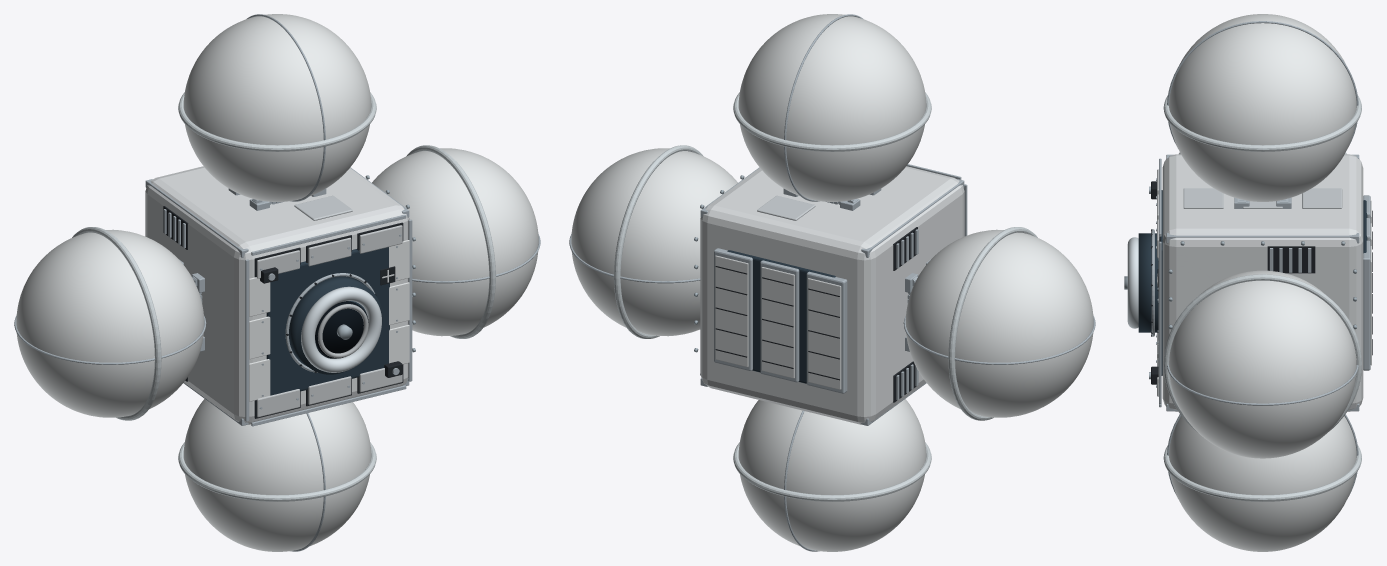
File: preview_depot.glb
3 views of the same model, side by side, from view 1: azimuth 30°, elevation 25°; view 2: azimuth 150°, elevation 25°; view 3: azimuth 270°, elevation 25° (orthographic).
Visible parts, largest first — view 1: external_propellant_tank_01, central_square_white_bus, aft_service_panel, Tank meridional restraint, tank_restraint_band_01, Insulation blanket cassette, depot_soft_capture_ring, Mount captive bolt, depot_docking_recess, top_thermal_tile, depot_transfer_seal; view 2: external_propellant_tank_01, central_square_white_bus, Tank meridional restraint, tank_restraint_band_01, aft_service_panel, Mount captive bolt, top_thermal_tile; view 3: external_propellant_tank_01, central_square_white_bus, Tank meridional restraint, tank_restraint_band_01, aft_service_panel, top_thermal_tile, Mount captive bolt, depot_soft_capture_ring.
Part boxes in pixels (x1,y1,x2,y2): external_propellant_tank_01: (16,14,538,551); central_square_white_bus: (145,166,409,424); aft_service_panel: (266,247,389,395); Tank meridional restraint: (14,14,540,551); tank_restraint_band_01: (72,92,495,501); Insulation blanket cassette: (257,225,402,417); depot_soft_capture_ring: (301,286,381,372); Mount captive bolt: (163,206,403,418); depot_docking_recess: (315,301,368,358); top_thermal_tile: (294,195,352,220); depot_transfer_seal: (318,304,368,358); external_propellant_tank_01: (571,14,1093,551); central_square_white_bus: (700,166,964,424); Tank meridional restraint: (569,14,1095,551); tank_restraint_band_01: (614,92,1037,501); aft_service_panel: (727,250,835,383); Mount captive bolt: (715,227,917,402); top_thermal_tile: (757,195,815,220); external_propellant_tank_01: (1157,14,1371,551); central_square_white_bus: (1162,154,1363,411); Tank meridional restraint: (1149,21,1370,496); tank_restraint_band_01: (1163,95,1361,501); aft_service_panel: (1138,190,1367,375); top_thermal_tile: (1183,188,1342,208); Mount captive bolt: (1151,181,1372,384); depot_soft_capture_ring: (1127,237,1138,328).
Bounding box in the file's own units: 6.05 × 6.05 × 2.6.
